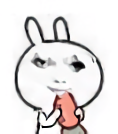dragon: (31, 53, 87, 95)
